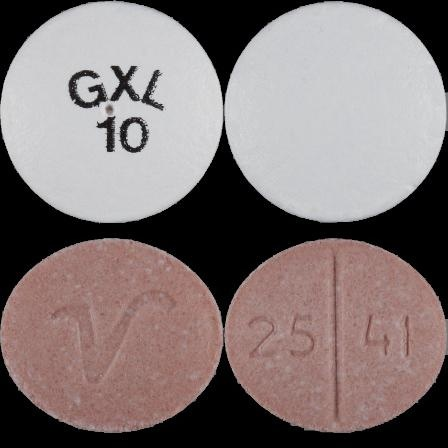53808-0942: (0, 0, 224, 224)
